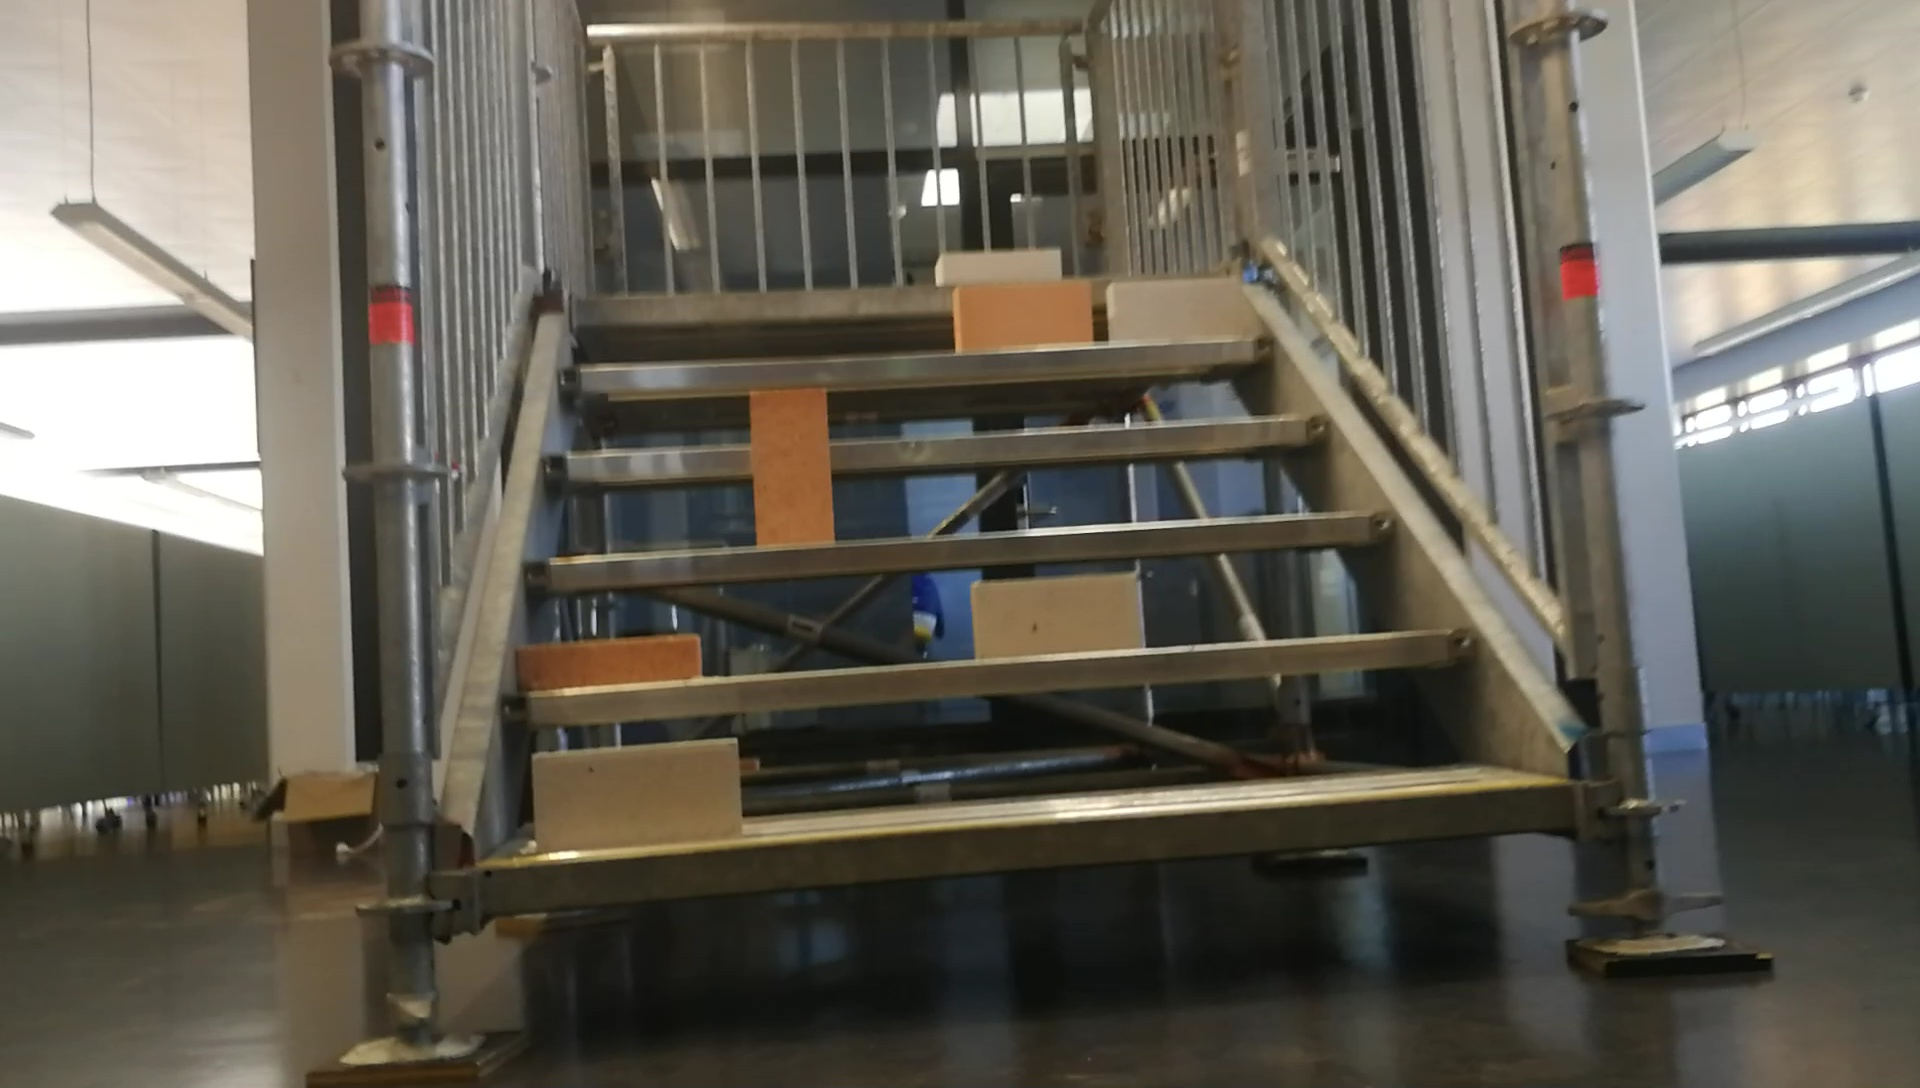brick: (535, 742, 732, 845), (971, 575, 1141, 655), (753, 390, 832, 542), (522, 630, 698, 686), (955, 281, 1087, 346), (1108, 278, 1244, 340), (938, 249, 1058, 285)
edge: (487, 781, 1567, 902), (498, 630, 1470, 728), (525, 513, 1403, 588), (545, 415, 1331, 483), (563, 335, 1278, 390)
stairs: (295, 3, 1778, 1083)
steps: (450, 243, 1582, 921)
